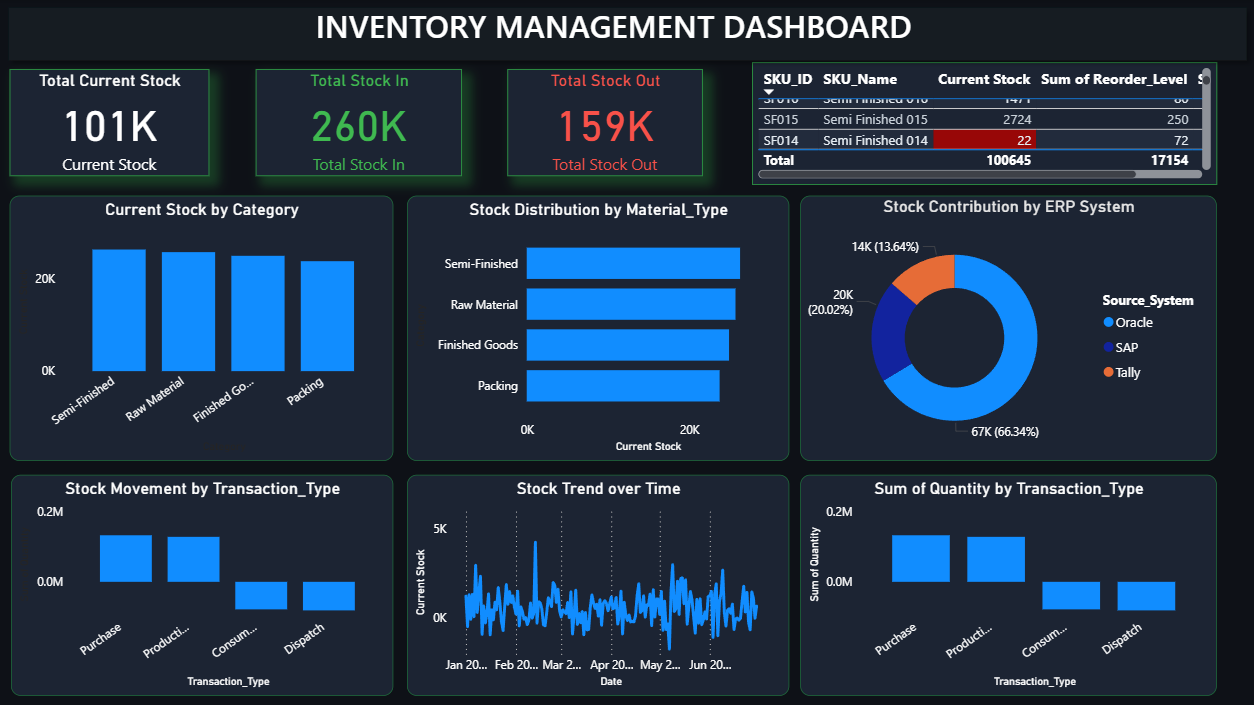

Layout of this report page (visuals, bound fields, positions):
{"tool":"powerbi","page":{"name":"Page 1","canvas":[1280,720],"ordinal":0},"visuals":[{"type":"card","title":"Total Current Stock","fields":{"Values":["inventory_transactions.Current Stock"]},"box":[9.8,71.5,203.3,109.4],"z":0},{"type":"card","title":"Total Stock In","fields":{"Values":["inventory_transactions.Total Stock In"]},"box":[260.8,71.5,210.3,109.4],"z":1000},{"type":"card","title":"Total Stock Out","fields":{"Values":["inventory_transactions.Total Stock Out"]},"box":[517.4,71.5,199.1,109.4],"z":2000},{"type":"clusteredColumnChart","fields":{"Category":["sku_master.Category"],"Y":["inventory_transactions.Current Stock"]},"box":[9.8,200.5,391.2,270.6],"z":3000},{"type":"columnChart","fields":{"Category":["inventory_transactions.Transaction_Type"],"Y":["Sum(inventory_transactions.Quantity)"]},"box":[816,485.1,424.8,225.7],"z":4000},{"type":"tableEx","fields":{"Values":["sku_master.SKU_ID","sku_master.SKU_Name","inventory_transactions.Current Stock","Sum(sku_master.Reorder_Level)","inventory_transactions.Stock Alert"]},"box":[766.9,64.5,473.9,124.8],"z":5000},{"type":"clusteredBarChart","title":"Stock Distribution by Material_Type","fields":{"Category":["sku_master.Category"],"Y":["inventory_transactions.Current Stock"]},"box":[415,200.5,389.8,270.6],"z":6000},{"type":"columnChart","title":"Stock Movement by Transaction_Type","fields":{"Category":["inventory_transactions.Transaction_Type"],"Y":["Sum(inventory_transactions.Quantity)"]},"box":[11.2,485.1,389.8,225.7],"z":7000},{"type":"lineChart","title":"Stock Trend over Time","fields":{"Y":["inventory_transactions.Current Stock"],"Category":["inventory_transactions.Date"]},"box":[415,485.1,389.8,225.7],"z":8000},{"type":"donutChart","title":"Stock Contribution by ERP System","fields":{"Y":["Sum(inventory_transactions.Quantity)"],"Category":["inventory_transactions.Source_System"]},"box":[816,200.5,424.8,270.6],"z":9000},{"type":"shape","box":[0,0,1280.1,71.5],"z":10000},{"type":"textbox","box":[316.9,0,623.9,57.5],"z":11000}]}

Visuals, with their boxes in screenshot pixels (x1, y1, x2, y2), scaled from the page's 1280x720 canvas onto the 1254x705 screenshot:
"Total Current Stock" card: (left=10, top=70, right=209, bottom=177)
"Total Stock In" card: (left=256, top=70, right=462, bottom=177)
"Total Stock Out" card: (left=507, top=70, right=702, bottom=177)
clusteredColumnChart - sku_master.Category x inventory_transactions.Current Stock: (left=10, top=196, right=393, bottom=461)
columnChart - inventory_transactions.Transaction_Type x Sum(inventory_transactions.Quantity): (left=799, top=475, right=1216, bottom=696)
tableEx - sku_master.SKU_ID x sku_master.SKU_Name: (left=751, top=63, right=1216, bottom=185)
"Stock Distribution by Material_Type" clusteredBarChart: (left=407, top=196, right=788, bottom=461)
"Stock Movement by Transaction_Type" columnChart: (left=11, top=475, right=393, bottom=696)
"Stock Trend over Time" lineChart: (left=407, top=475, right=788, bottom=696)
"Stock Contribution by ERP System" donutChart: (left=799, top=196, right=1216, bottom=461)
shape: (left=0, top=0, right=1253, bottom=70)
textbox: (left=310, top=0, right=922, bottom=56)
